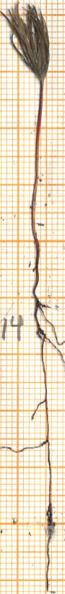flower: (0, 0, 65, 85)
root: (0, 224, 65, 594)
stem: (21, 85, 49, 227)
